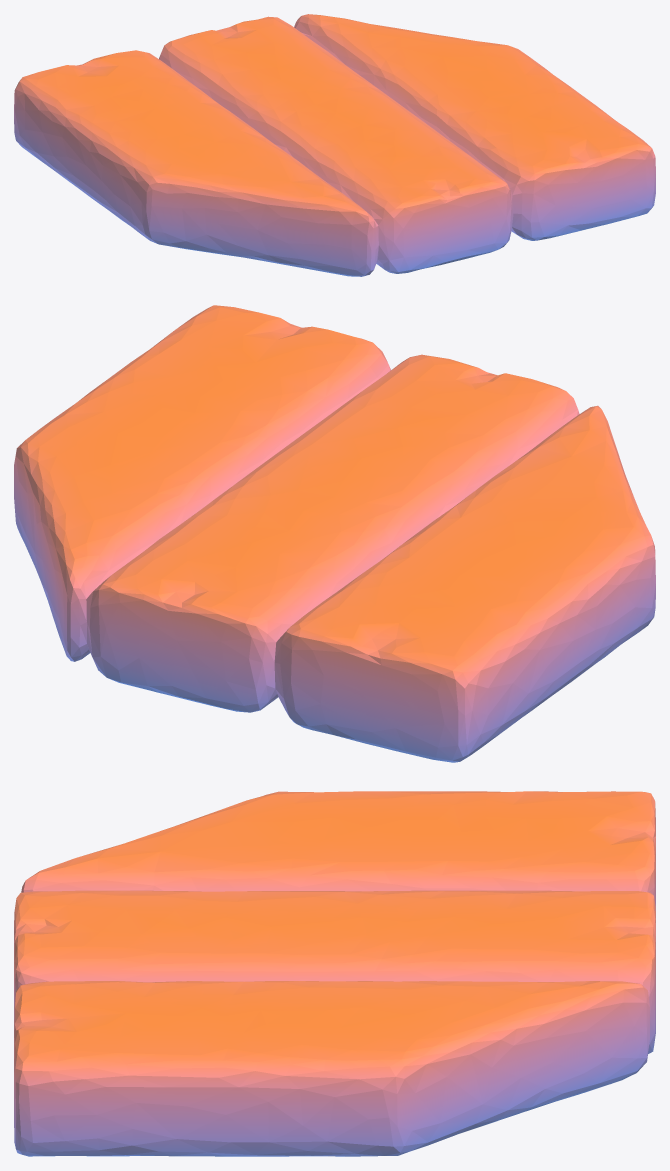
The model's file is 53_cyb_laser_gradient_fish_scales_2862_2026_10_03_4c0ac2.glb.
3 renders of one model, top to bottom at view 1: azimuth 30°, elevation 25°; view 2: azimuth 150°, elevation 25°; view 3: azimuth 270°, elevation 25°, orthographic. The views are drawn at different scales.
Parts seen in each view (by area): view 1: geometry_0; view 2: geometry_0; view 3: geometry_0.
Part boxes in pixels (box(x1,y1,x2,y2)): geometry_0: box(14, 14, 655, 276); geometry_0: box(14, 305, 655, 762); geometry_0: box(14, 791, 655, 1156).
Bounding box in the file's own units: 1 × 0.1652 × 0.9568.
